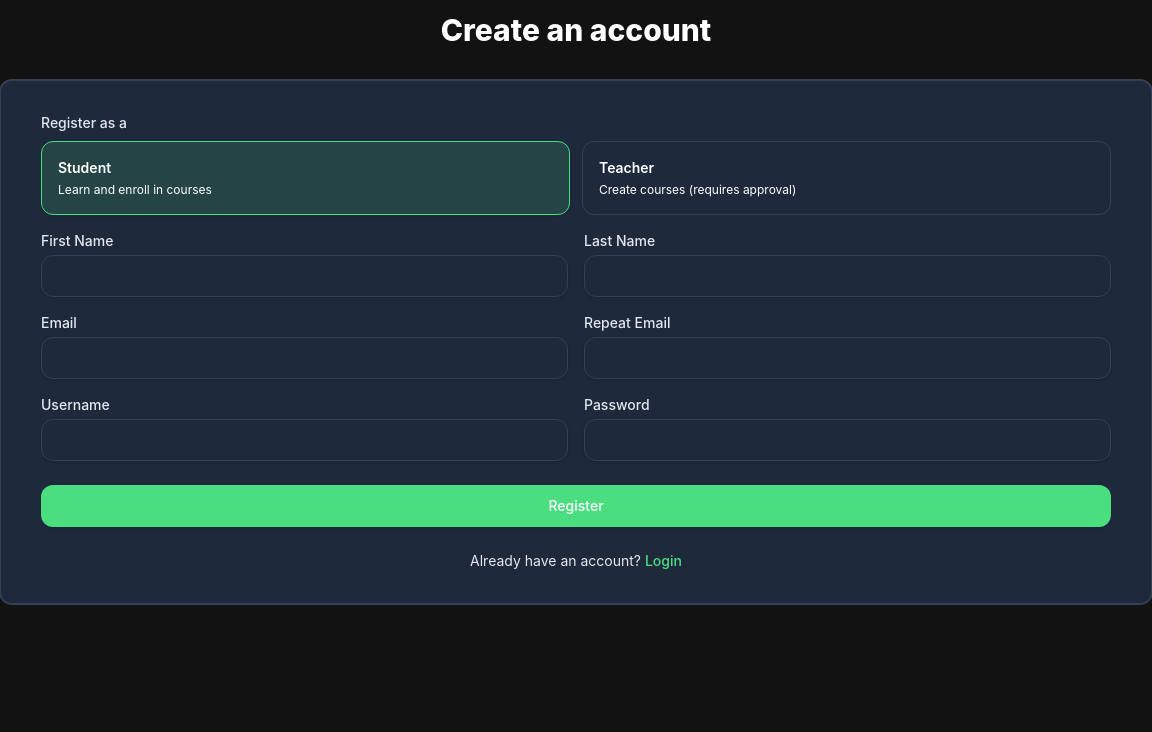
Test case: Register Component Test › Backend Error Handling › should display field-specific errors from 400 response
This screenshot has width=1152, height=732.
Step 1. Type "john.doe@example.com" into the field labelled "Email" → [304, 358], box [41,337,568,379]
Step 2. Type "john.doe@example.com" into the field labelled "Repeat Email" → [848, 358], box [584,337,1111,379]
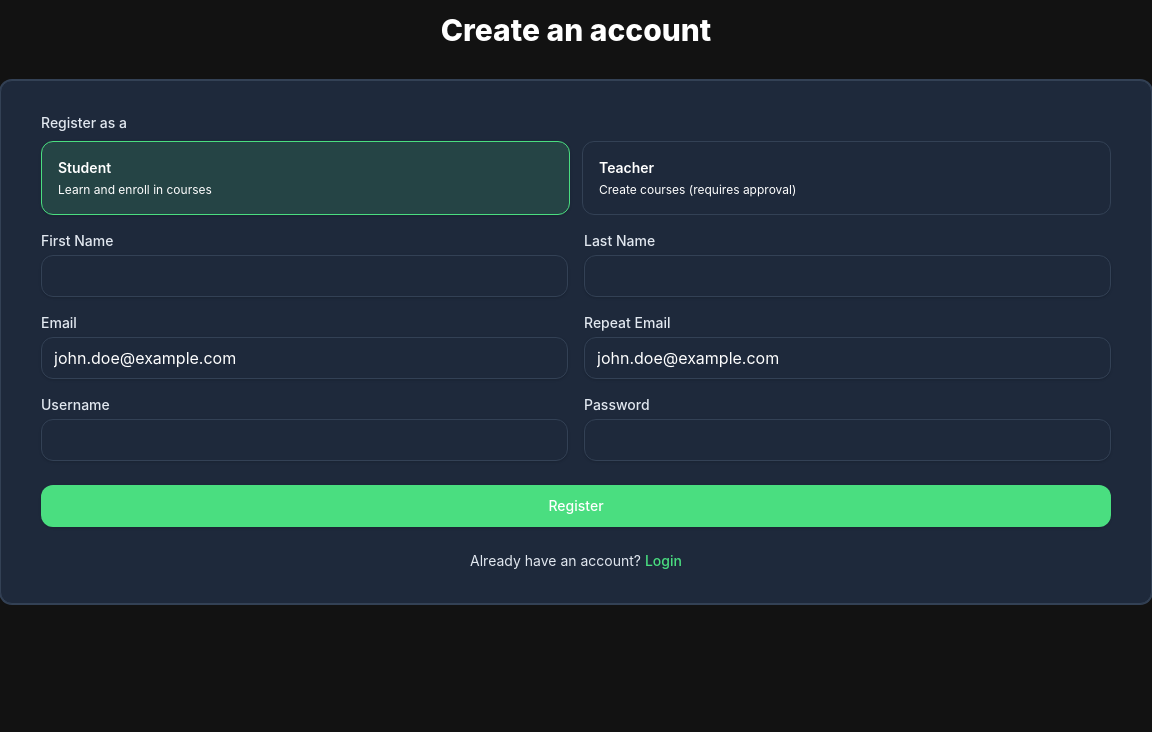
Step 3. Type "John" into the field labelled "First Name" → [304, 276], box [41,255,568,297]
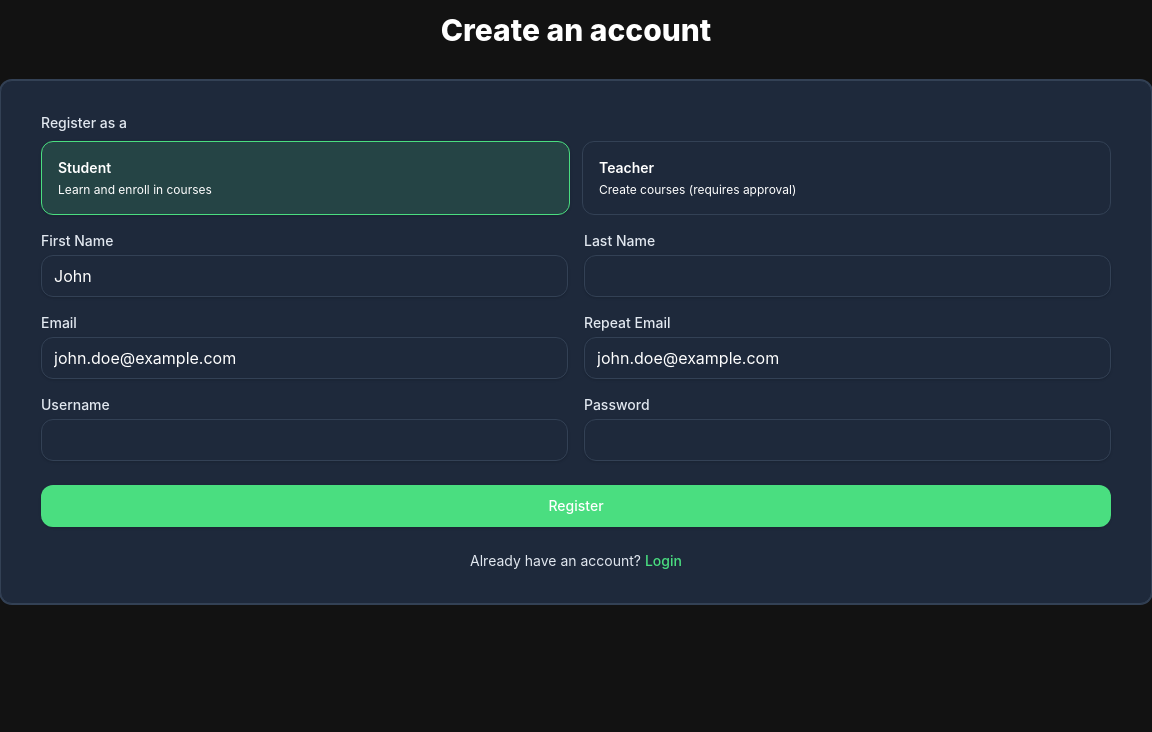
Step 4. Type "Doe" into the field labelled "Last Name" → [848, 276], box [584,255,1111,297]
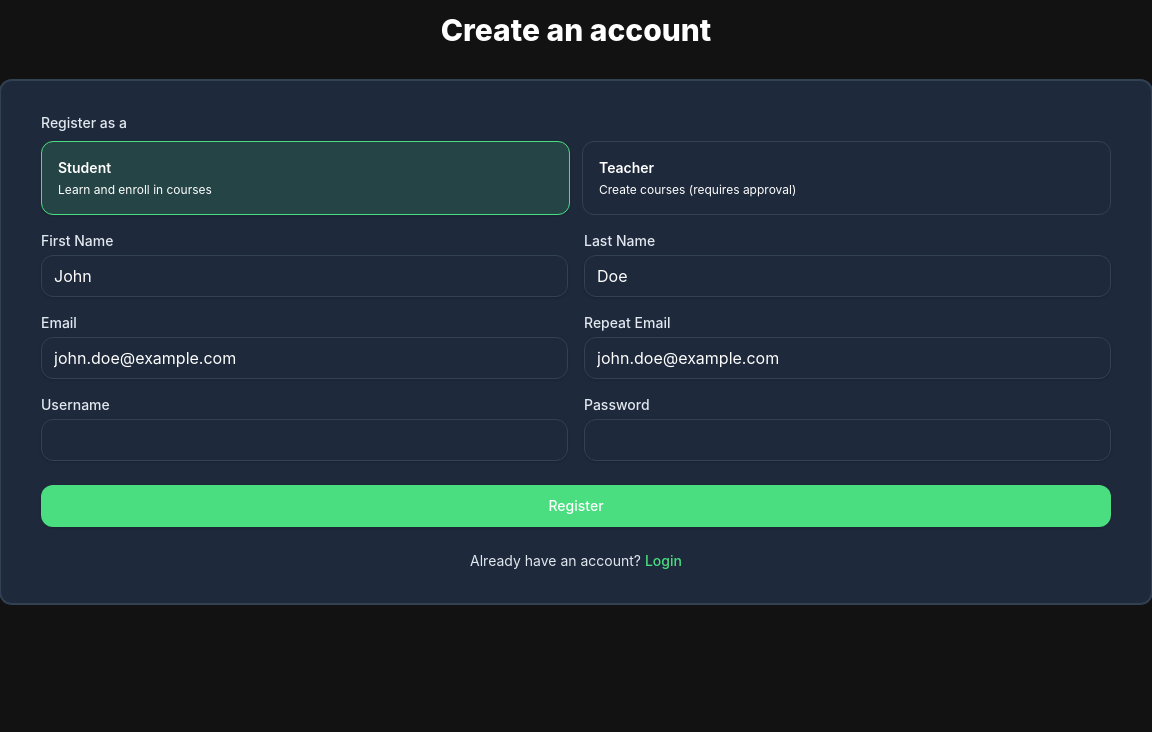
Step 5. Type "johndoe" into the field labelled "Username" → [304, 440], box [41,419,568,461]
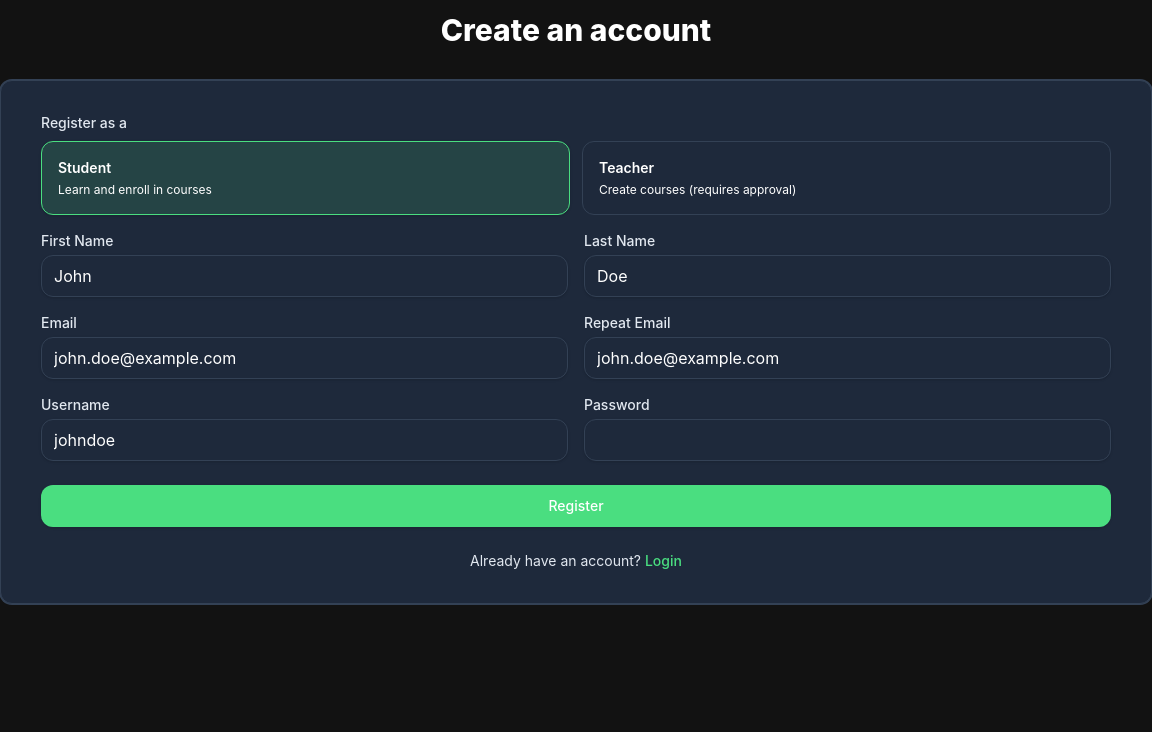
Step 6. Type "securePassword123" into the password field labelled "Password" → [848, 440], box [584,419,1111,461]
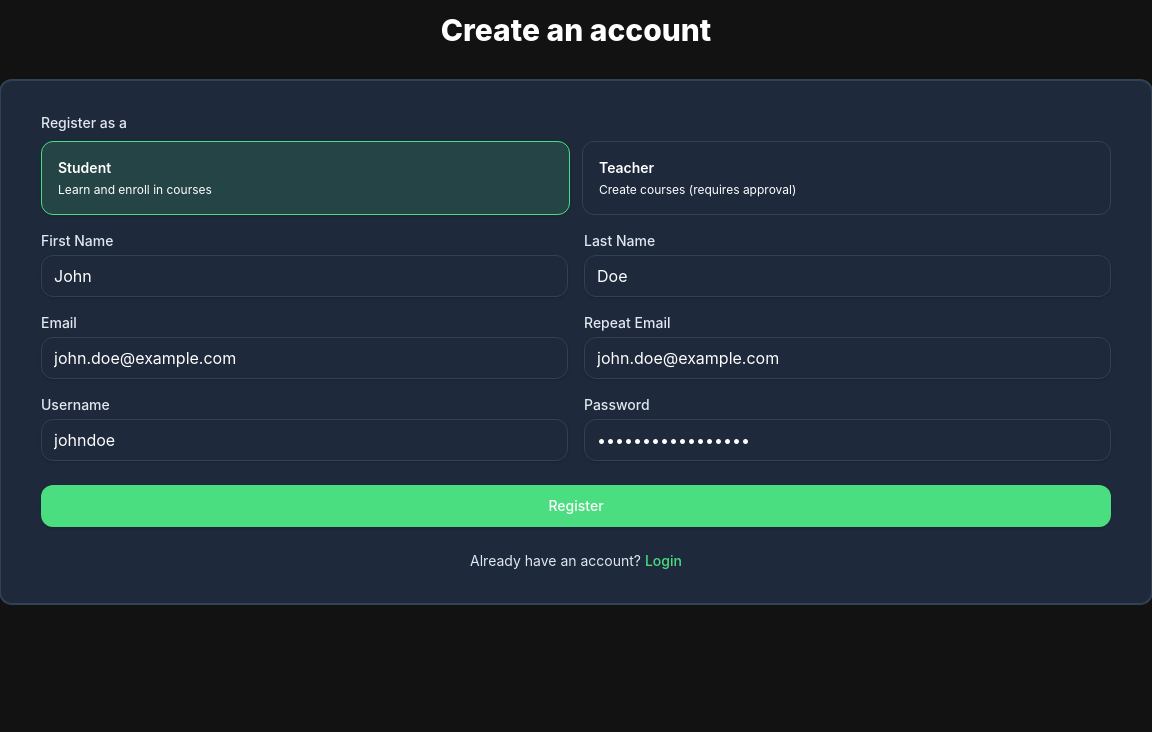
Step 7. Click the button "Register" → [576, 506], box [41,485,1111,527]
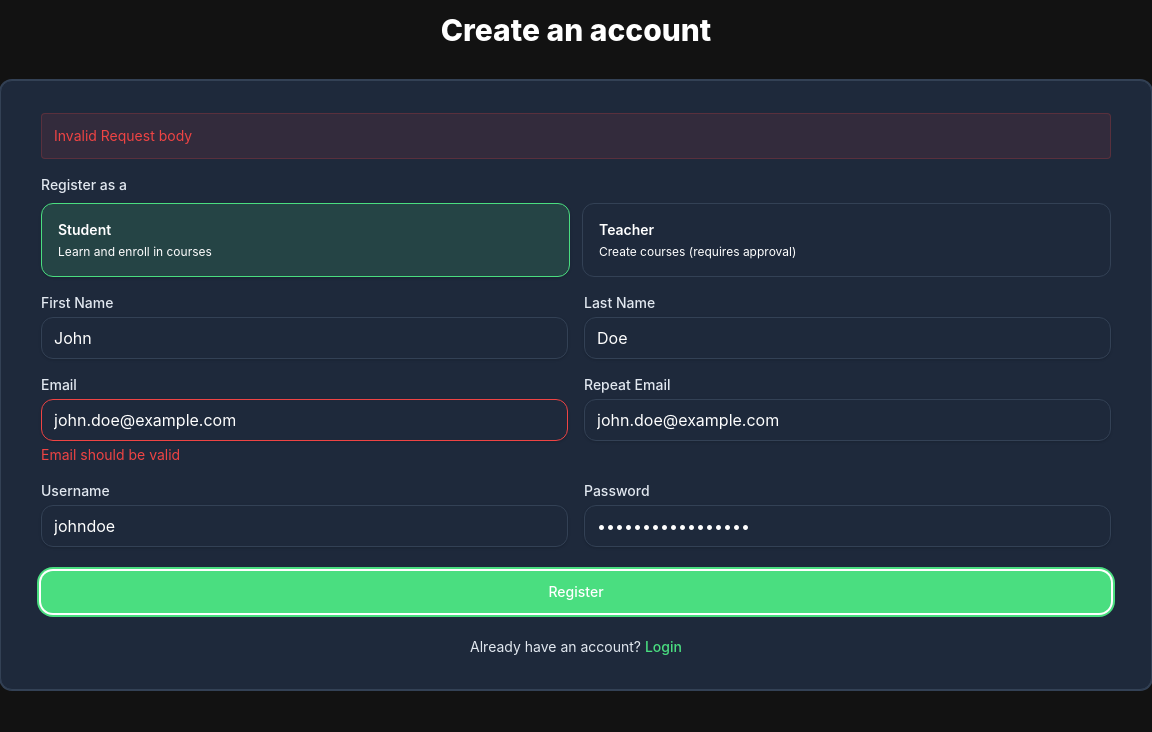
Check: the text "Invalid Request body" is shown, box [54,127,192,144]
Check: the text "Email should be valid" is shown, box [41,446,180,463]
